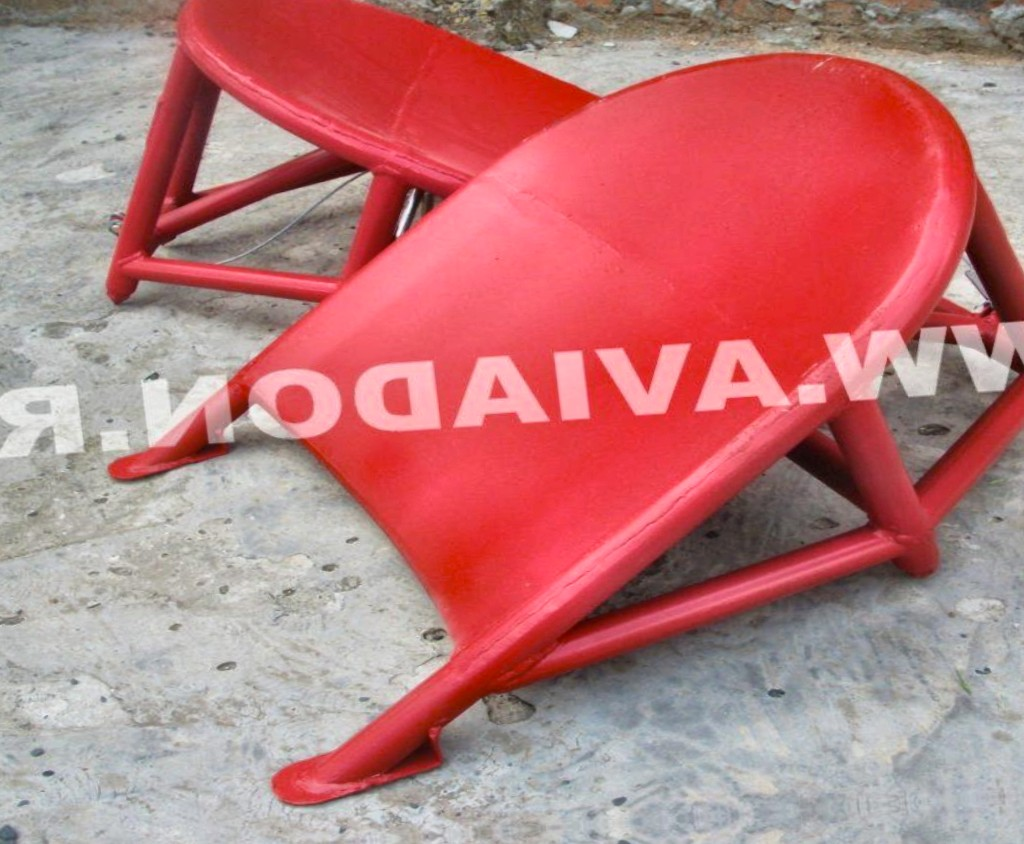chock: (57, 22, 1024, 821), (55, 0, 621, 311)
